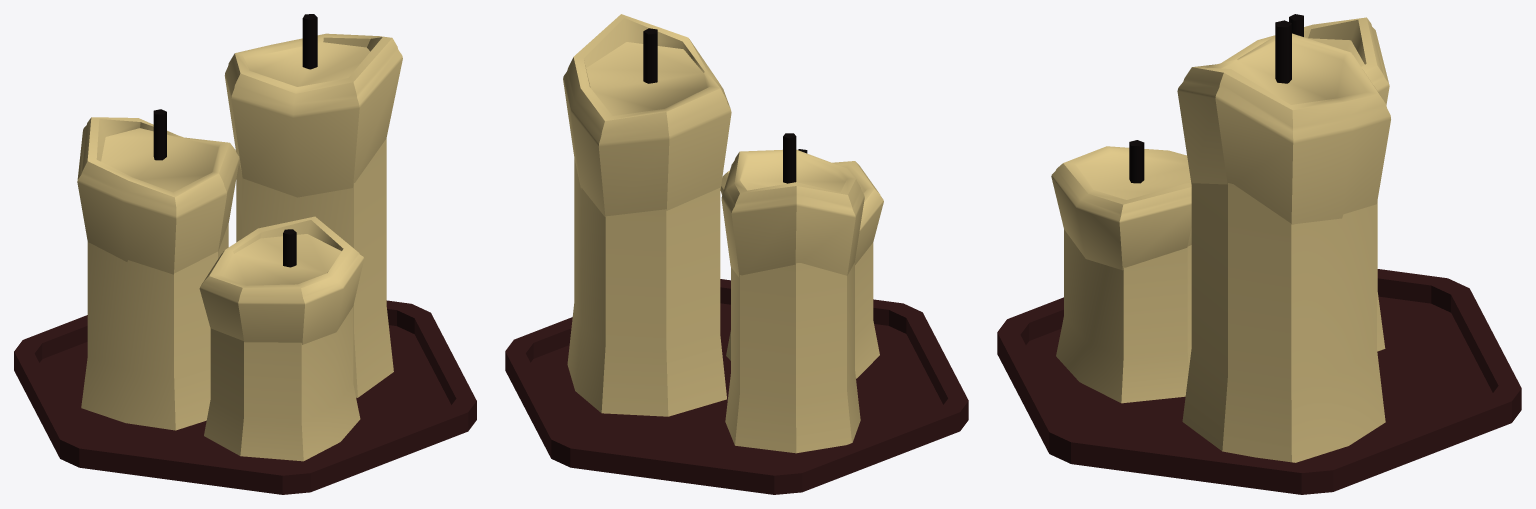
The model's file is THREE CANDLES.FBX.
3 renders of one model, left to right at view 1: azimuth 30°, elevation 25°; view 2: azimuth 150°, elevation 25°; view 3: azimuth 270°, elevation 25°, orthographic. The views are drawn at different scales.
Visible parts, largest first — view 1: Line006, Line007, Gengon001, Line008, Cylinder010, Cylinder009, Cylinder011; view 2: Line007, Line006, Gengon001, Line008, Cylinder010, Cylinder009; view 3: Line007, Gengon001, Line008, Line006, Cylinder010, Cylinder011.
Part boxes in pixels (box(x1,y1,x2,y2)): Line006: box(77, 117, 239, 430); Line007: box(224, 33, 402, 397); Gengon001: box(14, 300, 476, 494); Line008: box(199, 216, 364, 461); Cylinder010: box(302, 14, 317, 69); Cylinder009: box(153, 109, 166, 160); Cylinder011: box(283, 229, 296, 267); Line007: box(563, 14, 731, 416); Line006: box(721, 149, 864, 453); Gengon001: box(505, 279, 968, 494); Line008: box(720, 161, 883, 378); Cylinder010: box(643, 28, 657, 83); Cylinder009: box(783, 133, 796, 183); Line007: box(1177, 33, 1390, 462); Gengon001: box(997, 269, 1521, 494); Line008: box(1051, 146, 1191, 403); Line006: box(1222, 17, 1389, 351); Cylinder010: box(1275, 20, 1291, 83); Cylinder011: box(1129, 140, 1144, 183).
Bounding box in the file's own units: 86.08 × 71.04 × 84.5.
